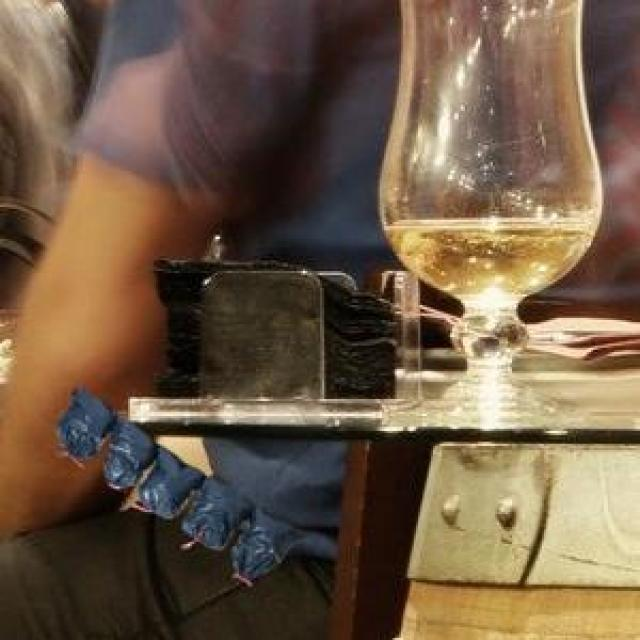miscellaneous trash: (51, 384, 305, 574)
